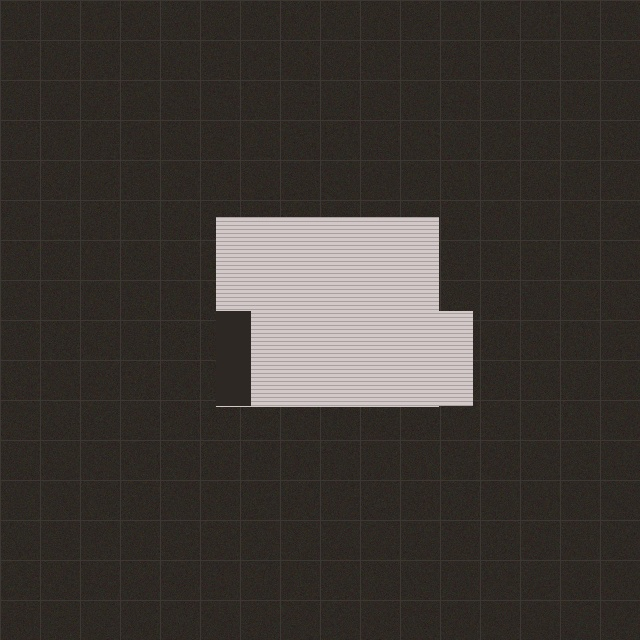layer_shift: (206, 291, 483, 331)
